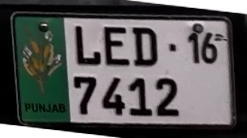1: (126, 76, 154, 118)
2: (153, 76, 181, 118)
4: (100, 76, 127, 118)
7: (72, 75, 98, 117)
D: (132, 25, 160, 68)
E: (103, 24, 131, 67)
L: (71, 25, 104, 67)
